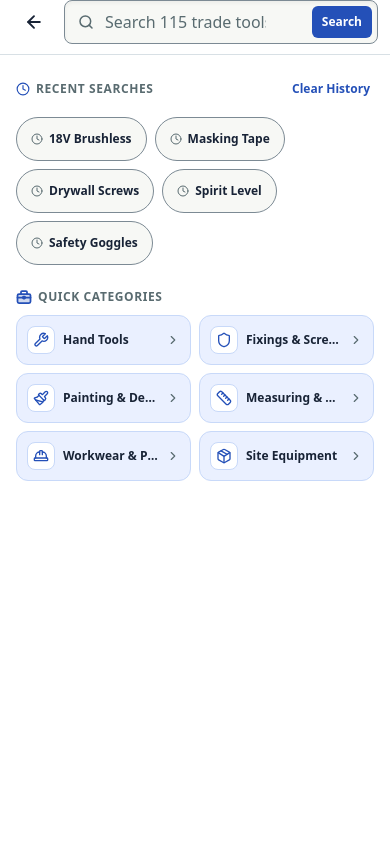
Milestone 2: Specialized Mobile E-Commerce UX Patterns › 3. Mobile Search Overlay (mobile-search-overlay.tsx & header.tsx) › provides clear button (X) when query is typed, and clears input on tap
Type "Combi Drill" into the search field with test id "mobile-search-overlay-input" at point(221, 22), box [64, 0, 378, 44]
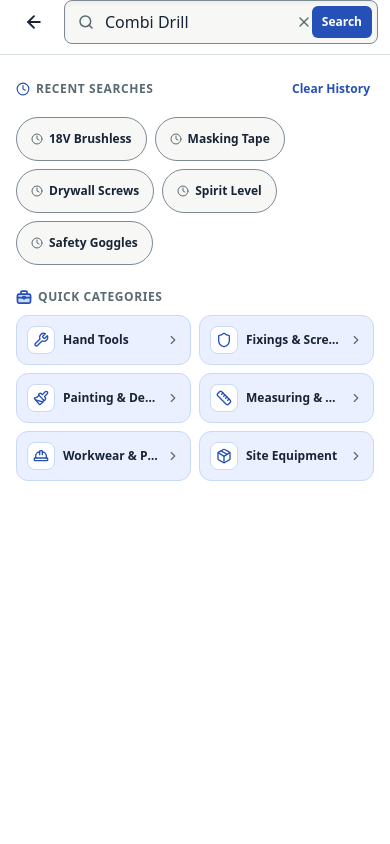
Check: the button with test id "mobile-search-clear-btn" is shown
Click the button with test id "mobile-search-clear-btn" at point(304, 22), box [286, 0, 322, 44]
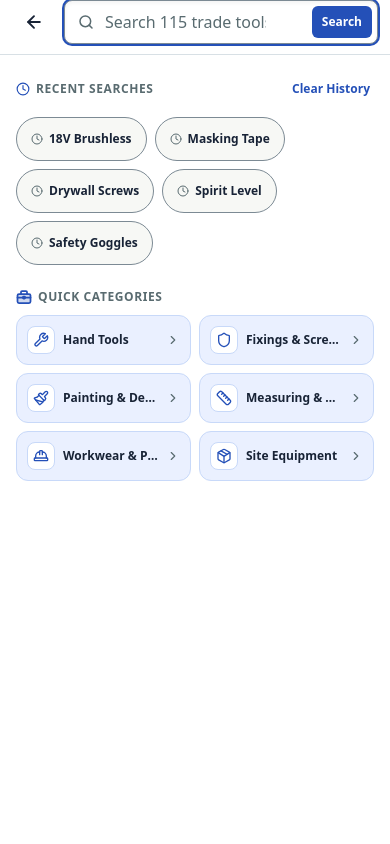
Check: the search field with test id "mobile-search-overlay-input" is empty, box [64, 0, 378, 44]
